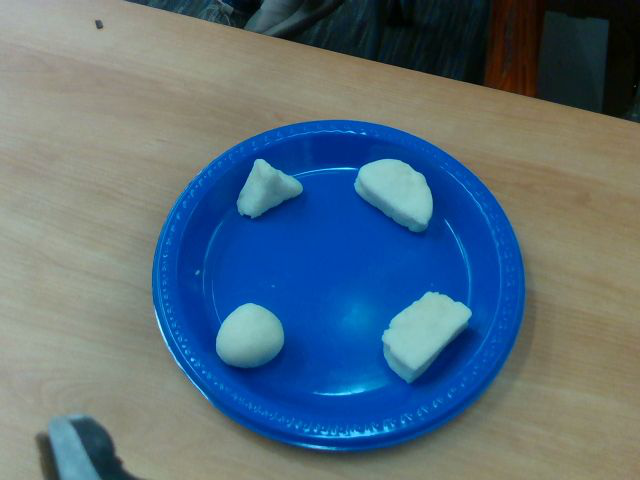mashed_potato: (382, 292, 471, 382), (353, 159, 433, 230), (215, 302, 284, 366), (237, 159, 303, 217)
